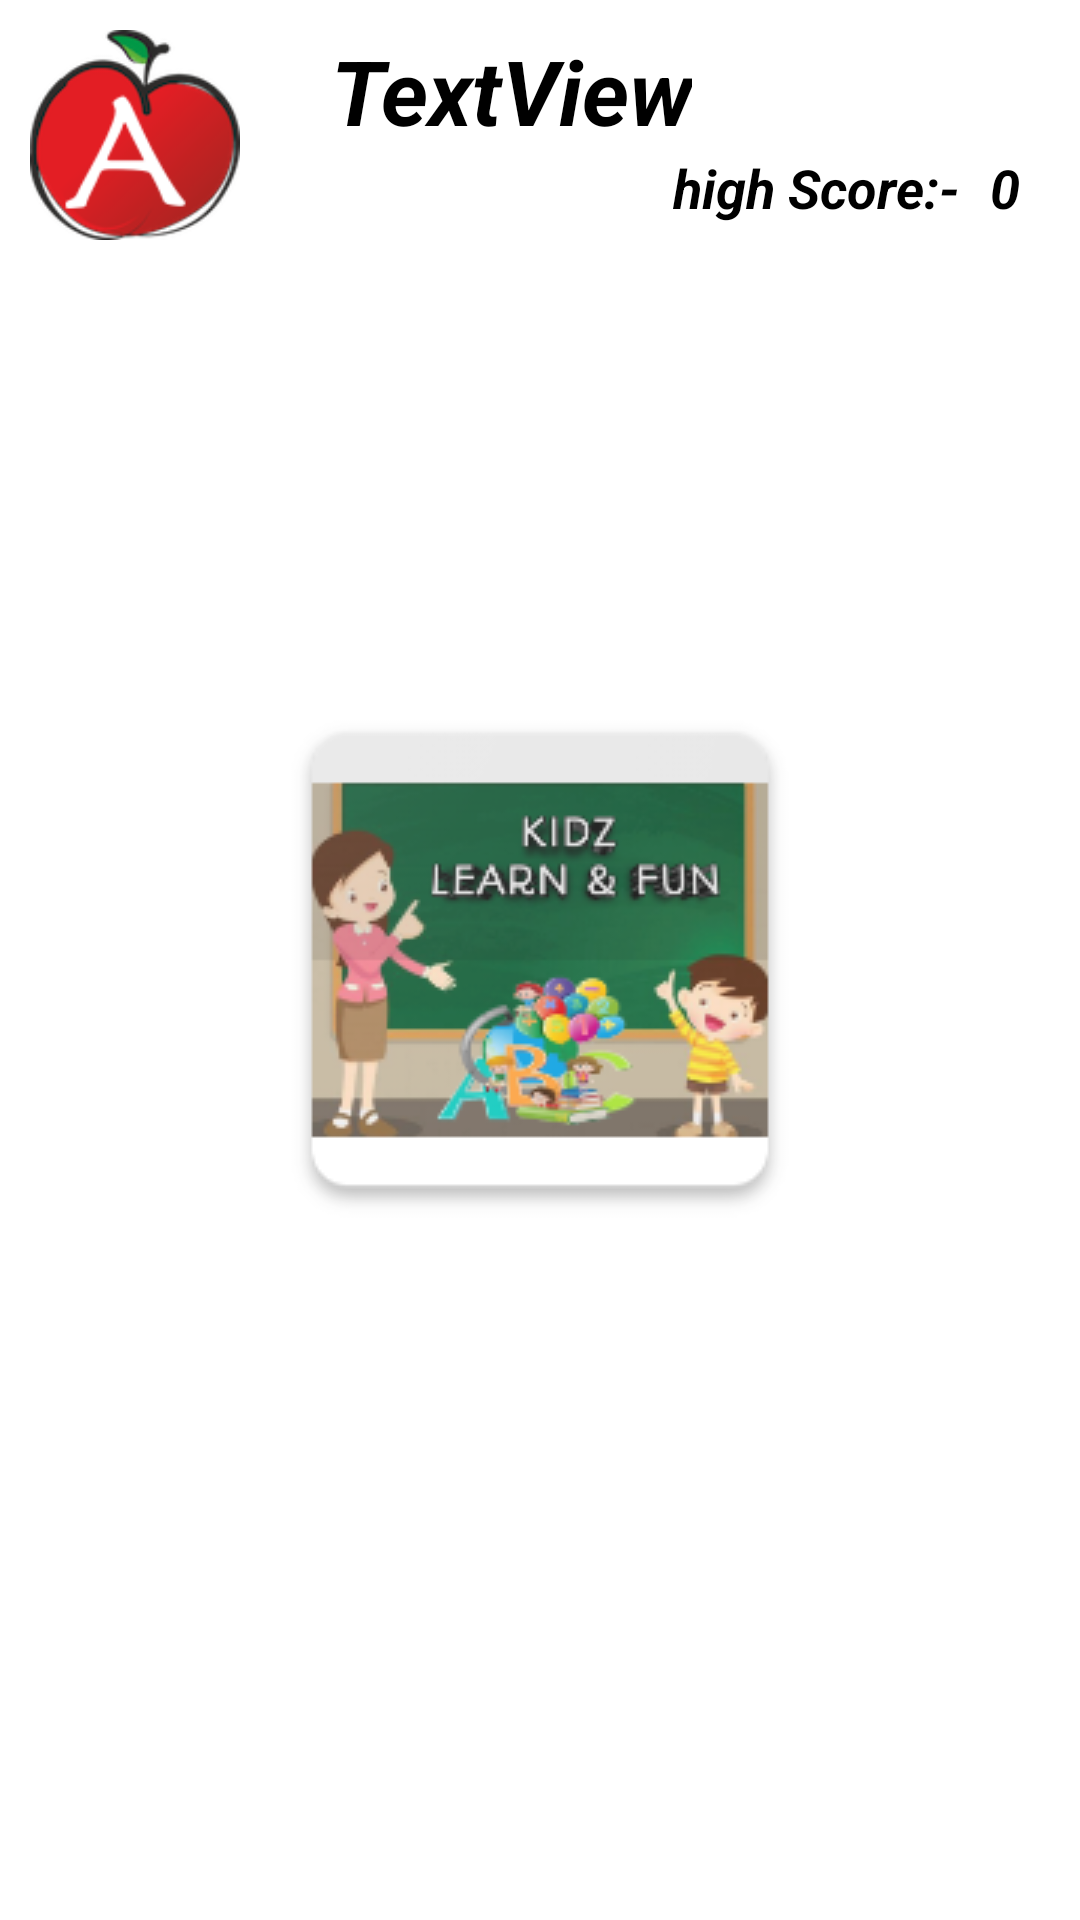

Icon bounding boxes for this 1080 x 1920 phone screenshot, format [x1,y1,x2,y2]:
alphabet main: [30,30,240,240]
